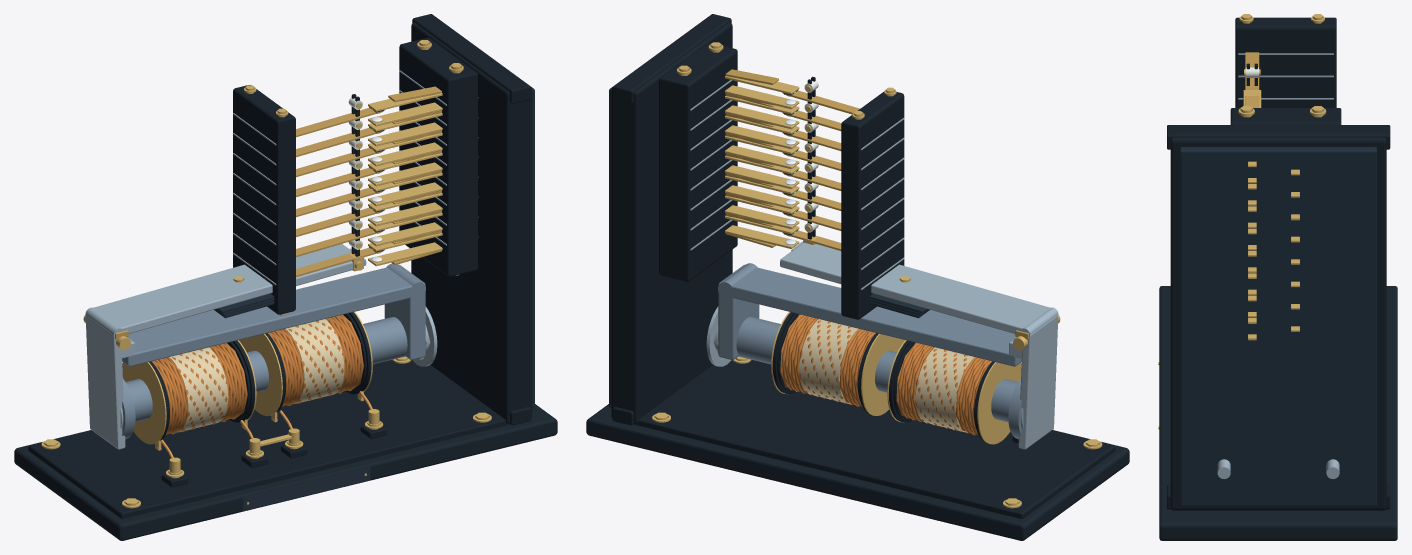
File: JWXC-1700-picked.glb
3 renders of one model, left to right at view 1: azimuth 30°, elevation 25°; view 2: azimuth 150°, elevation 25°; view 3: azimuth 270°, elevation 25°, orthographic. The views are drawn at different scales.
Parts seen in each view (by area): view 1: base (×6), contactBlock (×2), coil (×6), yoke (×2), armature (×2), back (×8), common (×8), core; view 2: base (×5), contactBlock (×2), coil (×6), armature (×2), yoke (×2), back (×8), core; view 3: base (×4), contactBlock (×2), common.
Part boxes in pixels (x1,y1,x2,y2): base (×6): (14, 14, 557, 540); contactBlock (×2): (233, 38, 477, 314); coil (×6): (122, 314, 363, 444); yoke (×2): (122, 264, 425, 366); armature (×2): (85, 244, 352, 449); back (×8): (368, 102, 442, 266); common (×8): (296, 107, 383, 276); core: (125, 317, 407, 422); base (×5): (586, 14, 1129, 540); contactBlock (×2): (659, 42, 904, 319); coil (×6): (780, 314, 1021, 444); armature (×2): (780, 242, 1058, 449); yoke (×2): (718, 264, 1021, 366); back (×8): (725, 85, 799, 248); core: (736, 317, 1018, 422); base (×4): (1159, 125, 1397, 540); contactBlock (×2): (1230, 17, 1341, 124); common: (1245, 52, 1259, 89).
Bounding box in the file's own units: 6.05 × 4.73 × 2.55.
